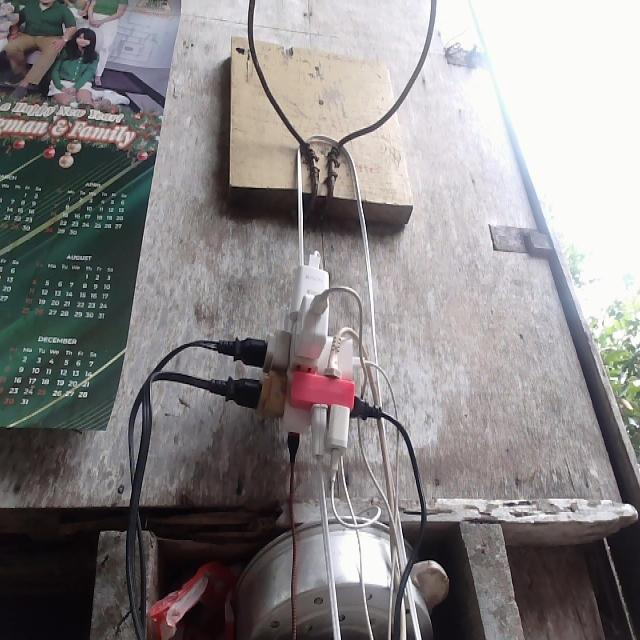-: (207, 249, 382, 479)
